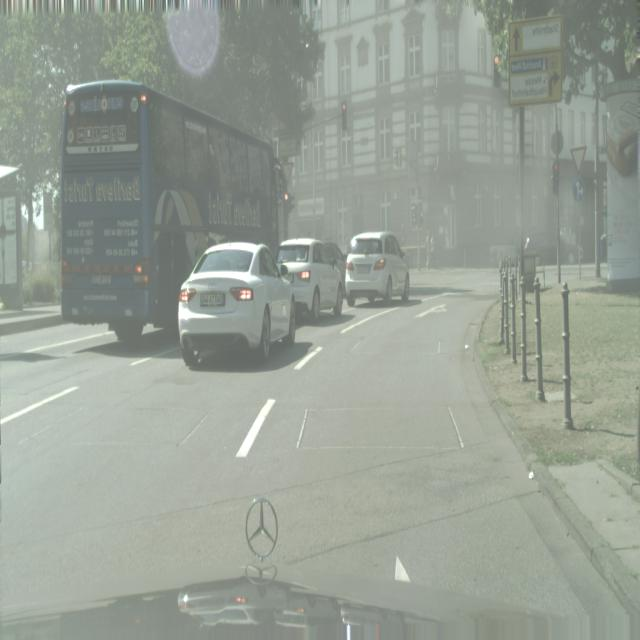motorcycle: (59, 80, 281, 345)
person: (429, 232, 438, 267), (425, 232, 430, 269)
truck: (178, 240, 297, 368), (277, 238, 344, 322), (345, 231, 411, 307), (523, 232, 583, 266)
